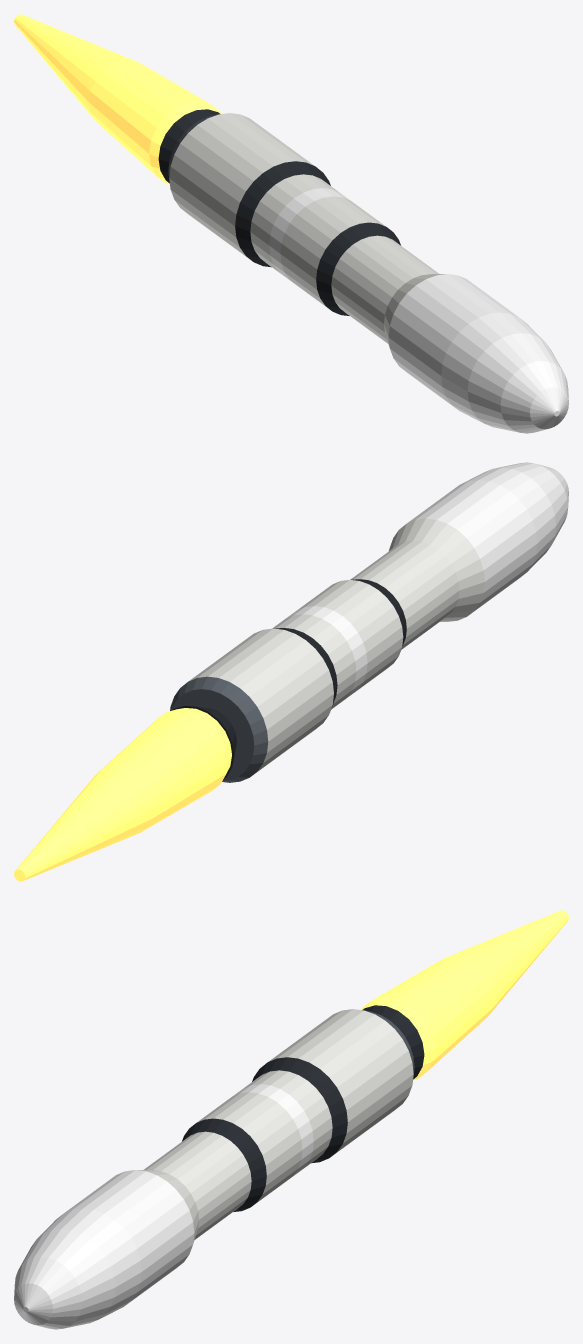
Rendered from mirv.glb.
3 renders of one model, top to bottom at view 1: azimuth 30°, elevation 25°; view 2: azimuth 150°, elevation 25°; view 3: azimuth 330°, elevation 25°, orthographic.
Parts seen in each view (by area): view 1: MIRV; view 2: MIRV; view 3: MIRV.
Part boxes in pixels (x1=…): MIRV: x1=14, y1=14, x2=568, y2=433; MIRV: x1=14, y1=462, x2=568, y2=881; MIRV: x1=14, y1=910, x2=568, y2=1329.
Bounding box in the file's own units: 0.152 × 0.152 × 1.43.
